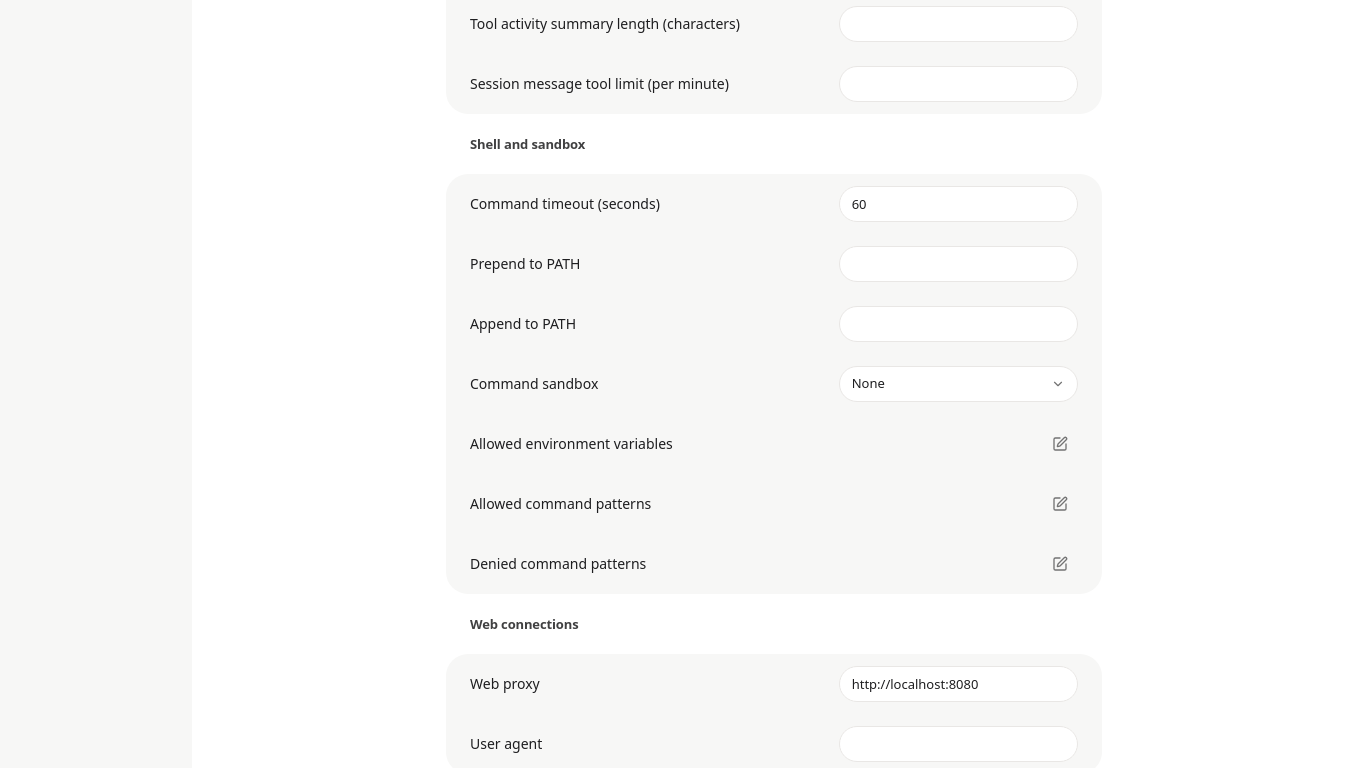
Runtime configuration settings › saves the bwrap sandbox and reveals its path settings
(page scrolled)
Click the dropdown named "Command sandbox" at (958, 384), box 839,366 -> 1078,402
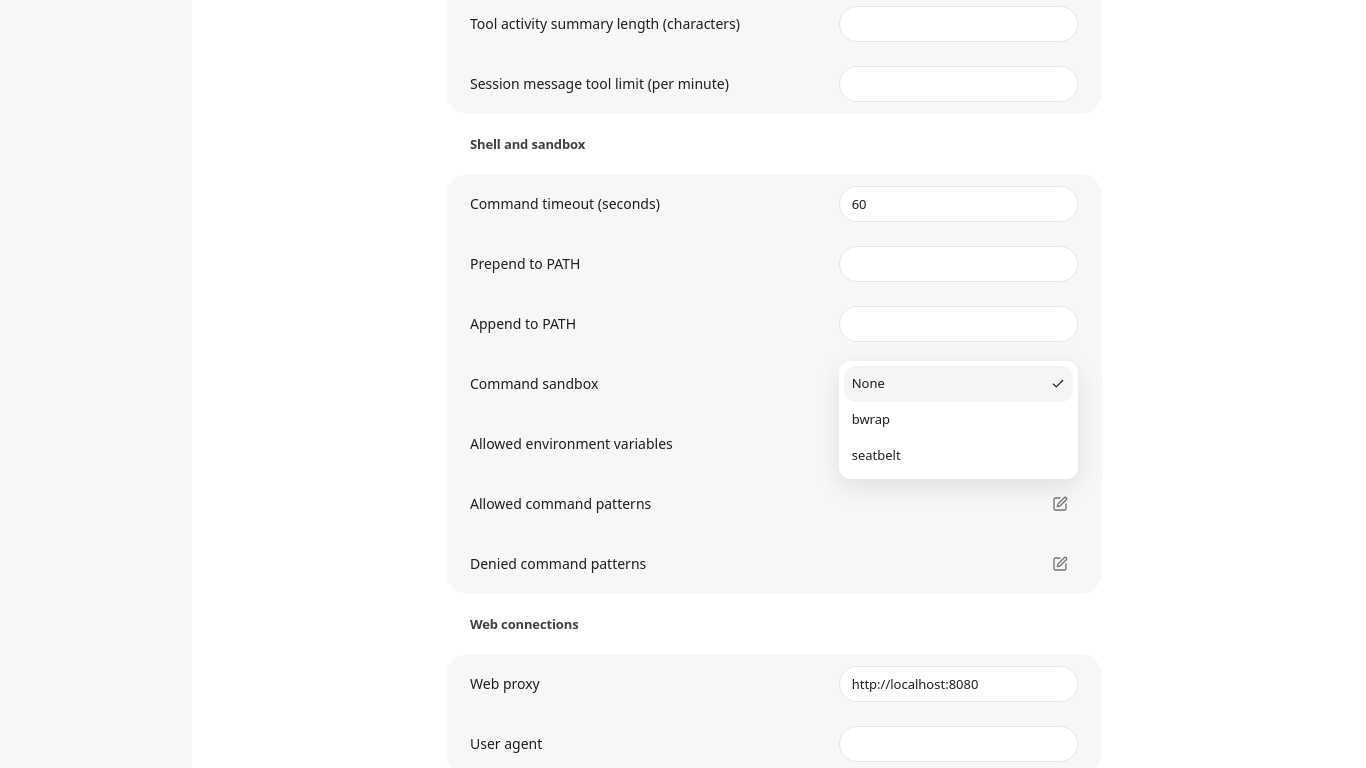
Click the option "bwrap" at (871, 419), box 852,410 -> 890,428
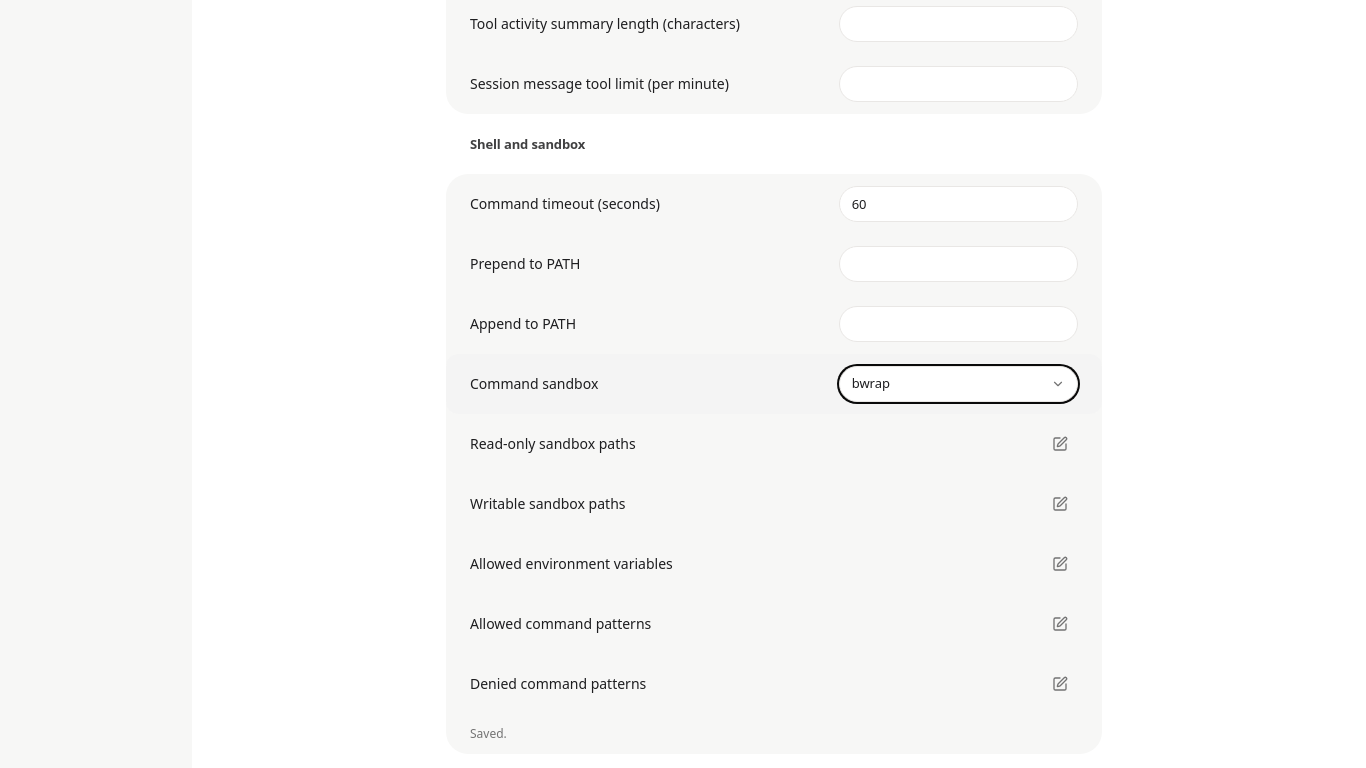
Now the button with id "runtime-tools" is shown, box 1042,426 -> 1078,462
